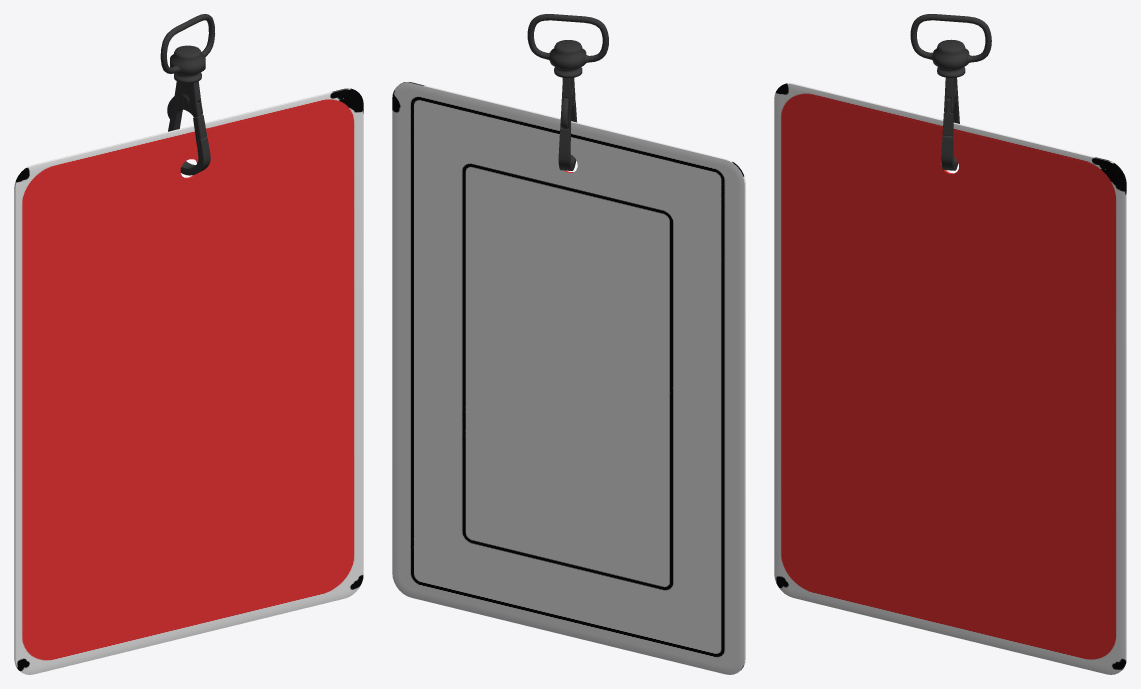
The model's file is card3.glb.
3 views of the same model, side by side, from view 1: azimuth 30°, elevation 25°; view 2: azimuth 150°, elevation 25°; view 3: azimuth 330°, elevation 25° (orthographic).
Parts seen in each view (by area): view 1: card, clamp, clip; view 2: card, clip, clamp; view 3: card, clip, clamp.
Boxes of the visible parts, x1,y1,x2,y2 form: card: (14,88,363,674); clamp: (167,81,210,175); clip: (160,14,214,83); card: (392,82,745,674); clip: (527,14,608,78); clamp: (558,77,577,170); card: (774,83,1126,674); clip: (910,14,991,77); clamp: (941,77,959,170).
Bounding box in the file's own units: 0.7164 × 1.21 × 0.0903.
2 materials, 1 textured.
